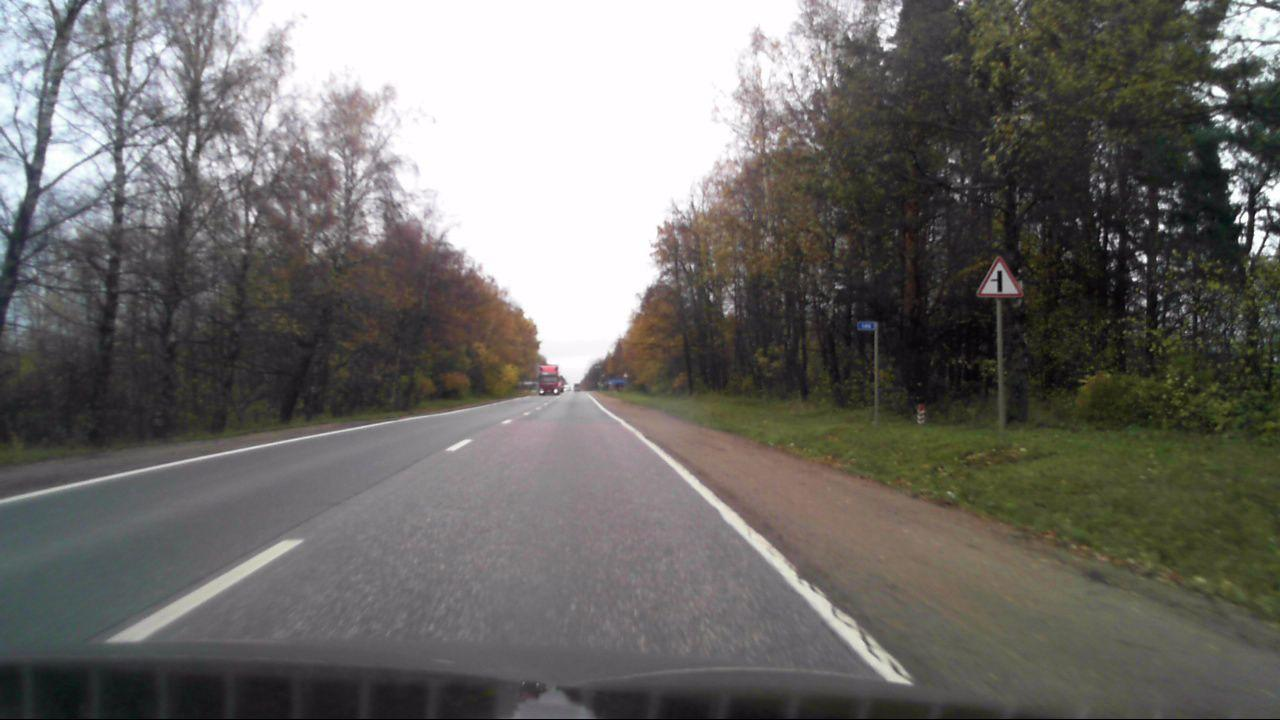2_3_3: (977, 255, 1022, 298)
